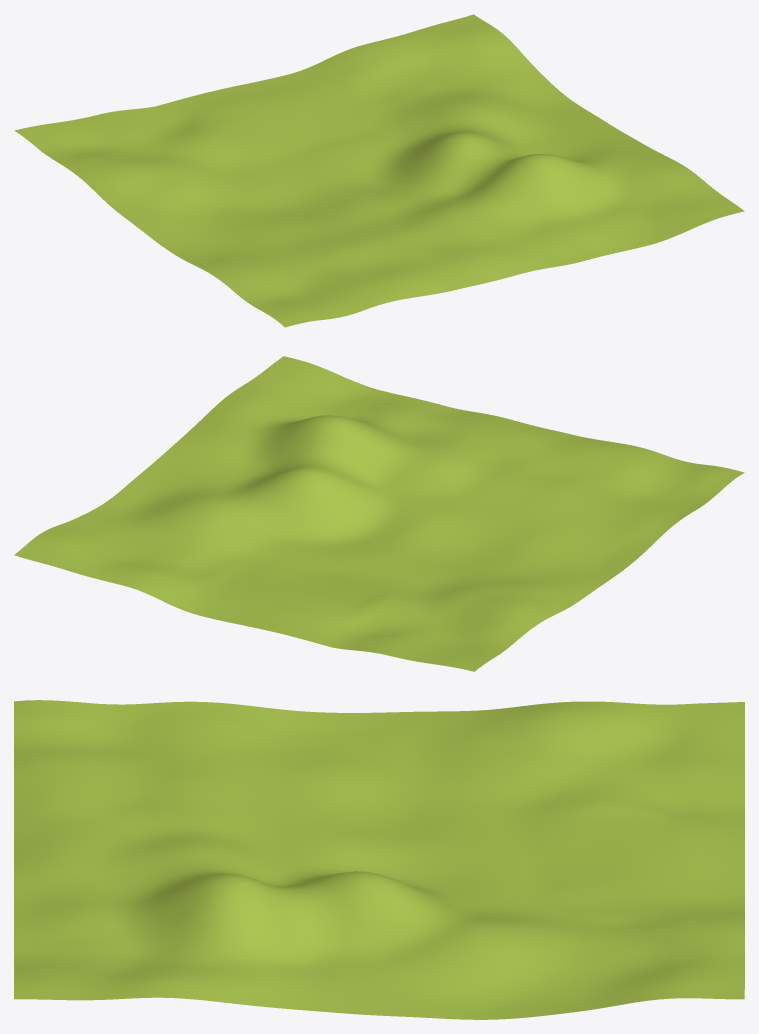
File: chemin_courve4.fbx
3 views of the same model, one above another, from view 1: azimuth 30°, elevation 25°; view 2: azimuth 150°, elevation 25°; view 3: azimuth 270°, elevation 25° (orthographic). The views are drawn at different scales.
Parts seen in each view (by area): view 1: chemin_courve4; view 2: chemin_courve4; view 3: chemin_courve4.
Boxes of the visible parts, x1,y1,x2,y2 form: chemin_courve4: [14, 14, 744, 327]; chemin_courve4: [14, 356, 744, 671]; chemin_courve4: [14, 700, 744, 1019].
Bounding box in the file's own units: 709 × 67.41 × 720.
